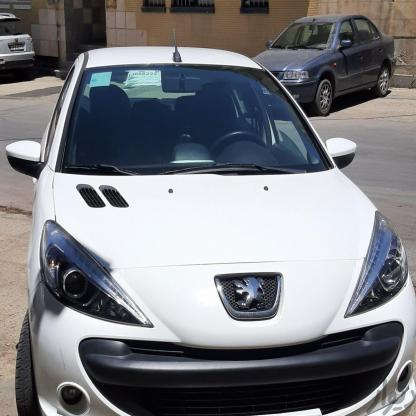Car: (0, 44, 416, 416), (242, 9, 398, 113), (0, 0, 39, 85)
